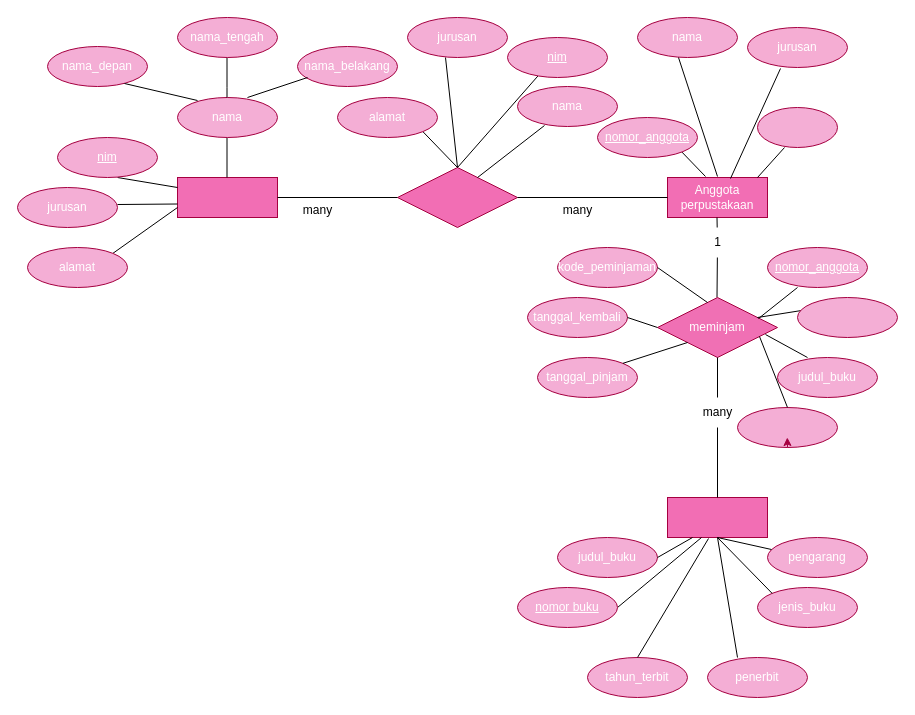
The diagram is 915 pixels wide and 715 high, and some of its shapes have lost their labels. The centre of each missing label's shape, as x and y in pixels:
"Buku" goes at point 717,517.
"denda" goes at point 787,427.
"mahasiswa" goes at point 227,197.
"mendaftar" goes at point 457,197.
"nama_berlaku" goes at point 797,127.
"nomor_buku" goes at point 847,317.
